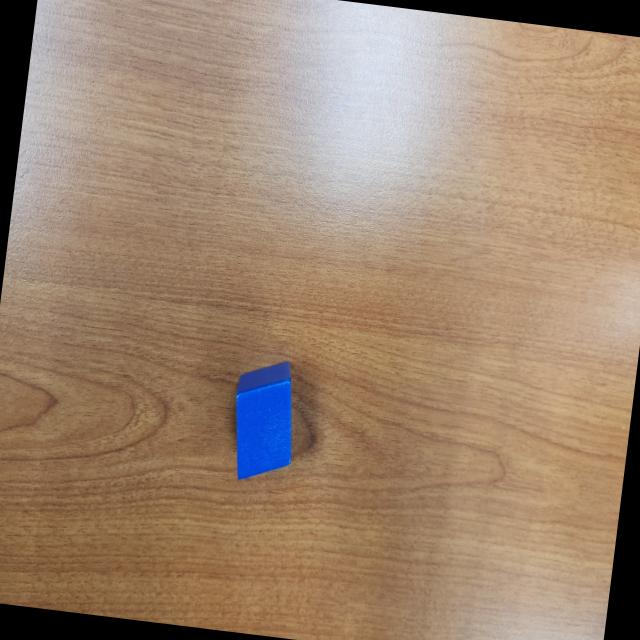blue: (226, 354, 304, 486)
